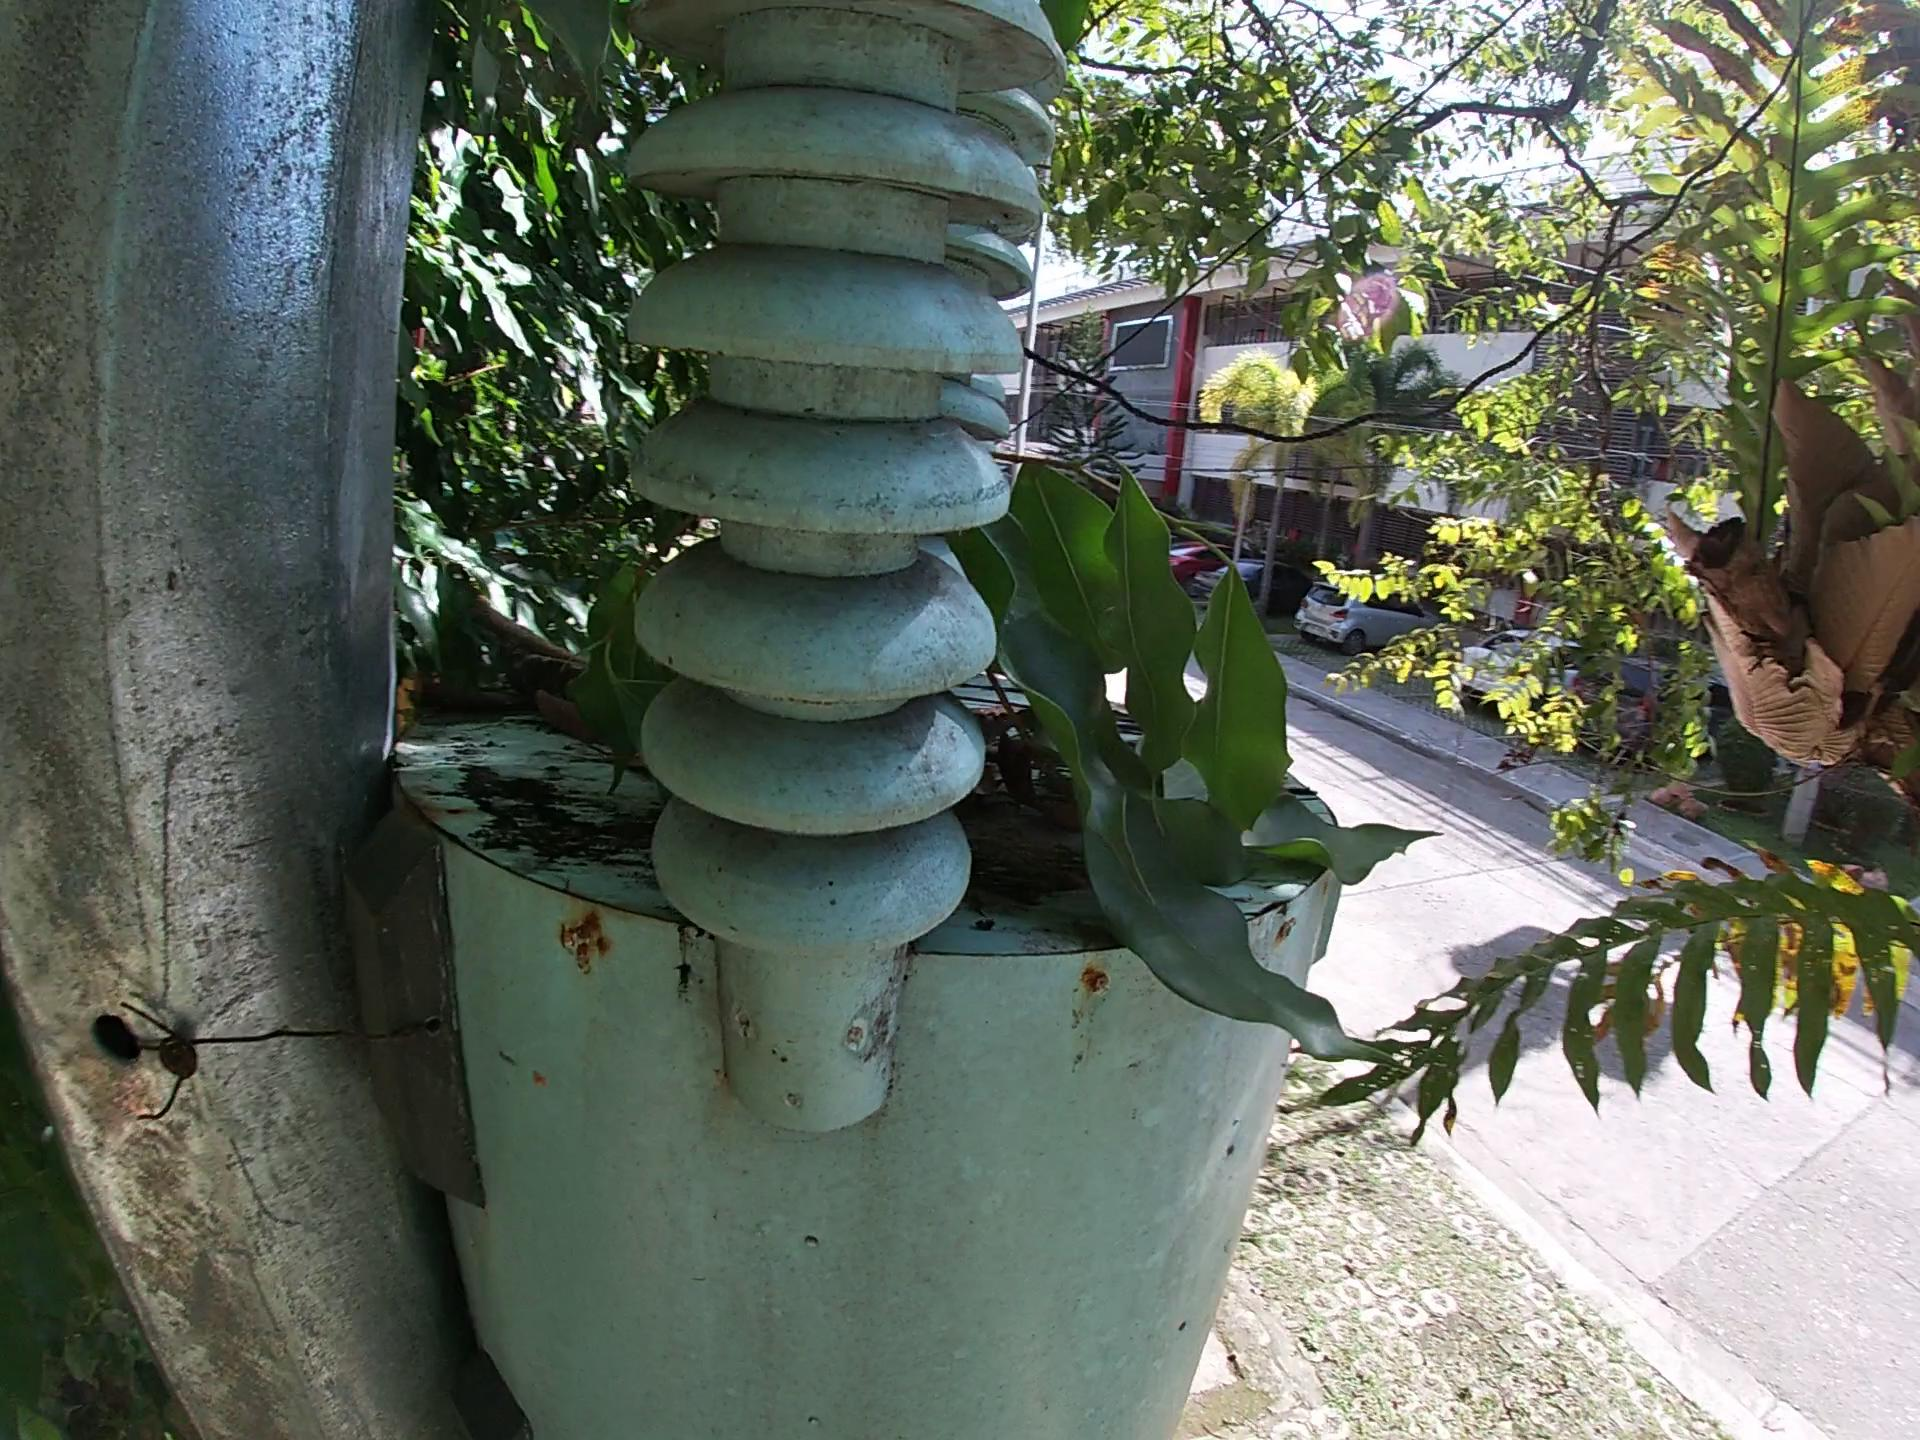branch with leaves: (937, 442, 1500, 1088)
mahogany fruit: (955, 690, 1022, 743)
tree branch: (440, 570, 571, 656), (509, 653, 649, 732)
